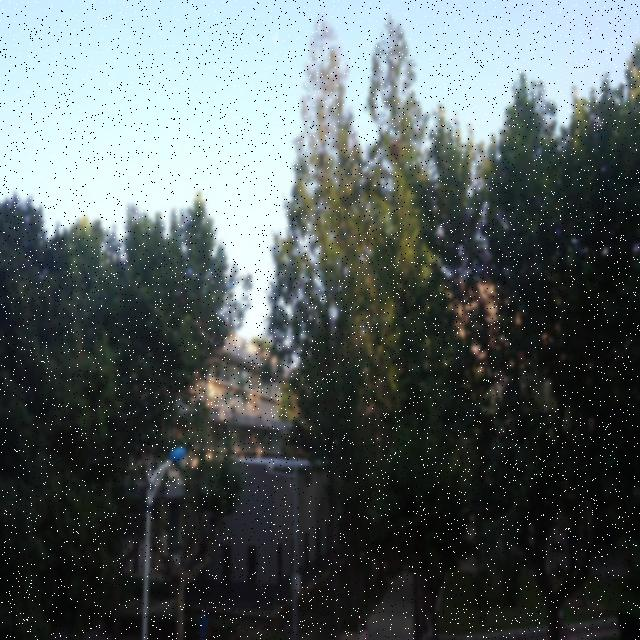UAV: (293, 280, 304, 294)
